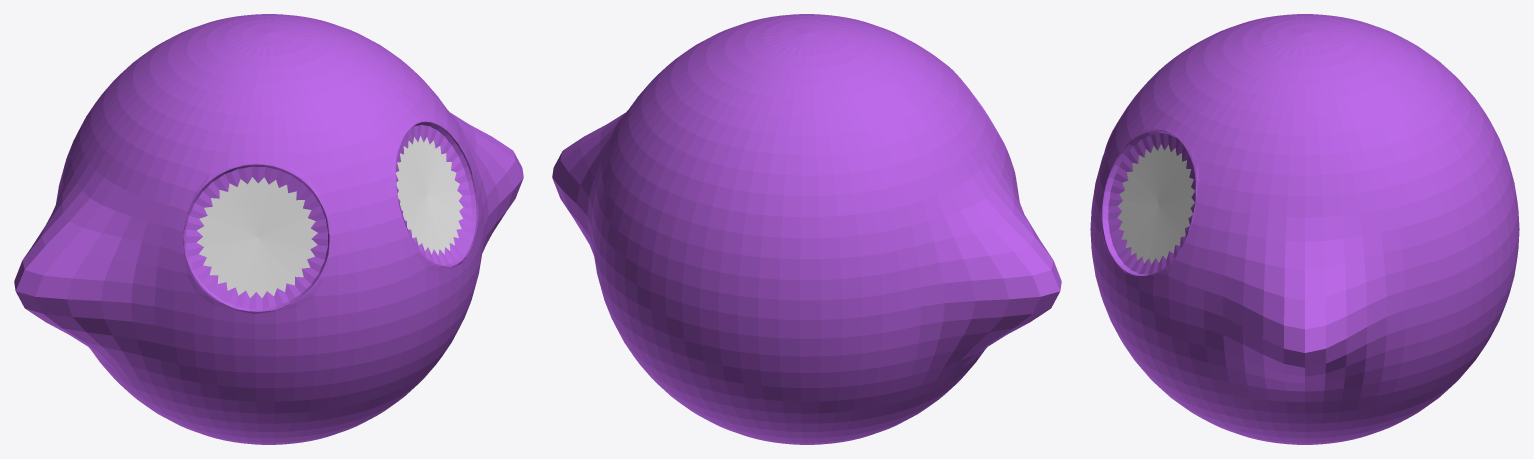
The model's file is babybird.fbx.
The picture shows the model from 3 angles, left to right: view 1: azimuth 30°, elevation 25°; view 2: azimuth 150°, elevation 25°; view 3: azimuth 270°, elevation 25°; orthographic projection.
Parts seen in each view (by area): view 1: bird.001; view 2: bird.001; view 3: bird.001.
Boxes of the visible parts, x1,y1,x2,y2 form: bird.001: [14, 14, 523, 444]; bird.001: [552, 14, 1061, 444]; bird.001: [1090, 14, 1519, 444].
Size of the model in its own units: 410 by 304 by 301.
